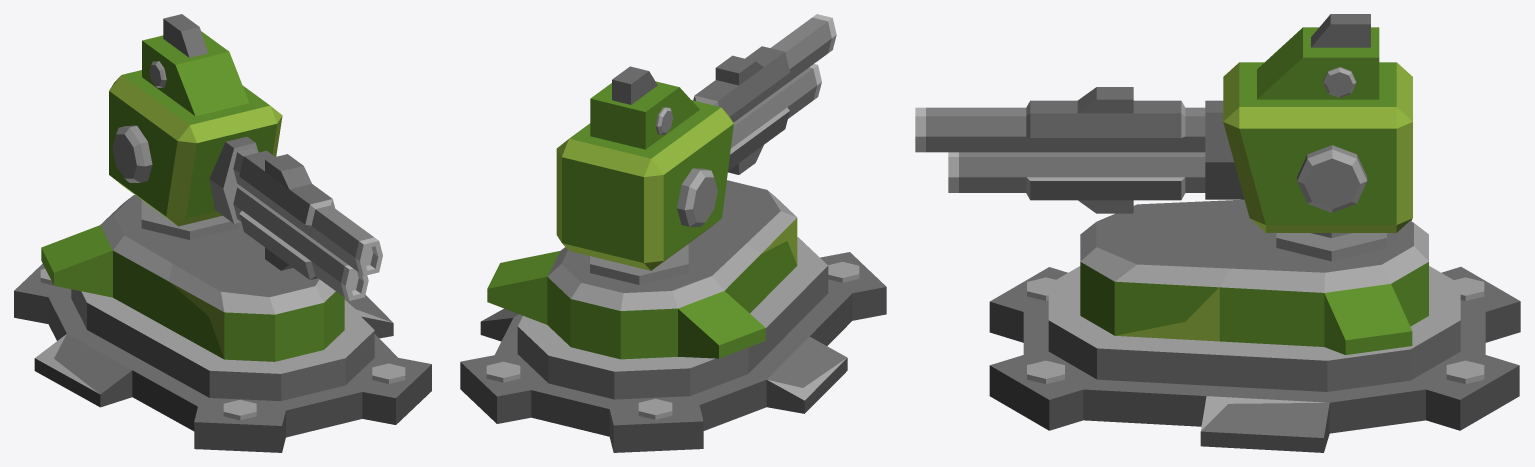
Rendered from tower_lethal_green_3.fbx.
3 views of the same model, side by side, from view 1: azimuth 30°, elevation 25°; view 2: azimuth 150°, elevation 25°; view 3: azimuth 270°, elevation 25° (orthographic). The views are drawn at different scales.
Visible parts, largest first — view 1: tower_lethal_green_3, top_lethal_green_3; view 2: tower_lethal_green_3, top_lethal_green_3; view 3: tower_lethal_green_3, top_lethal_green_3.
Part boxes in pixels (x1=…): tower_lethal_green_3: x1=14, y1=195, x2=431, y2=452; top_lethal_green_3: x1=109, y1=14, x2=382, y2=300; tower_lethal_green_3: x1=460, y1=180, x2=886, y2=452; top_lethal_green_3: x1=556, y1=14, x2=836, y2=284; tower_lethal_green_3: x1=989, y1=199, x2=1520, y2=452; top_lethal_green_3: x1=915, y1=14, x2=1412, y2=261.
Size of the model in its own units: 159 by 144 by 229.
